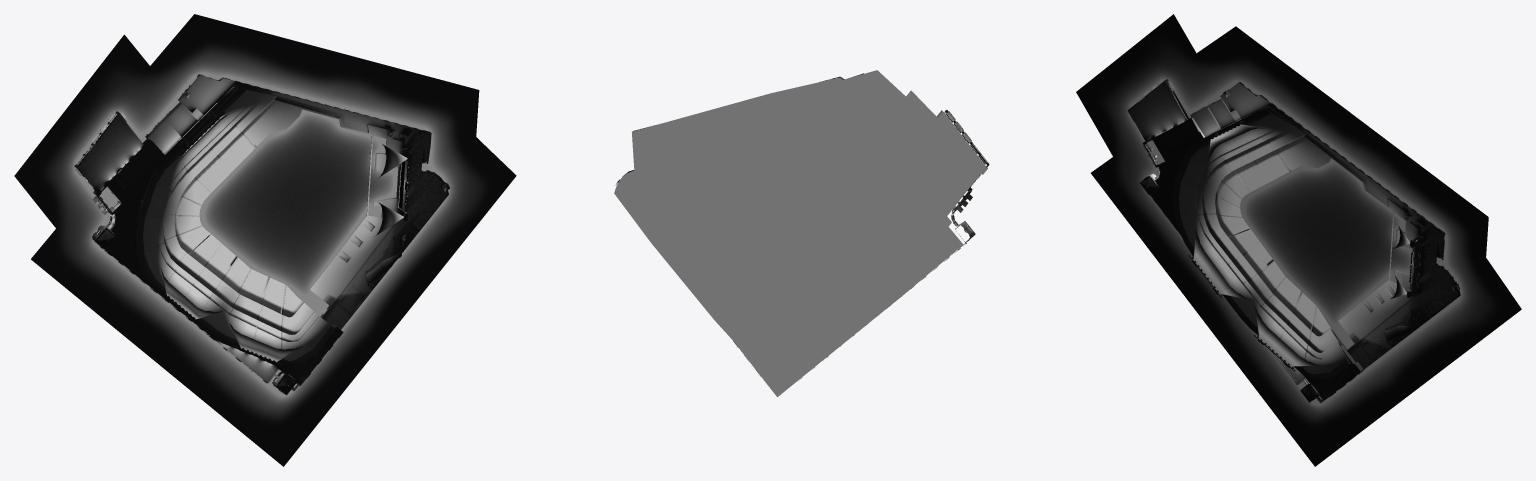
3 views of the same model, side by side, from view 1: azimuth 30°, elevation 25°; view 2: azimuth 150°, elevation 25°; view 3: azimuth 330°, elevation 25° (orthographic). The views are drawn at different scales.
Size of the model in its own units: 1696 by 1532 by 61.88.
1 material, 1 textured.
